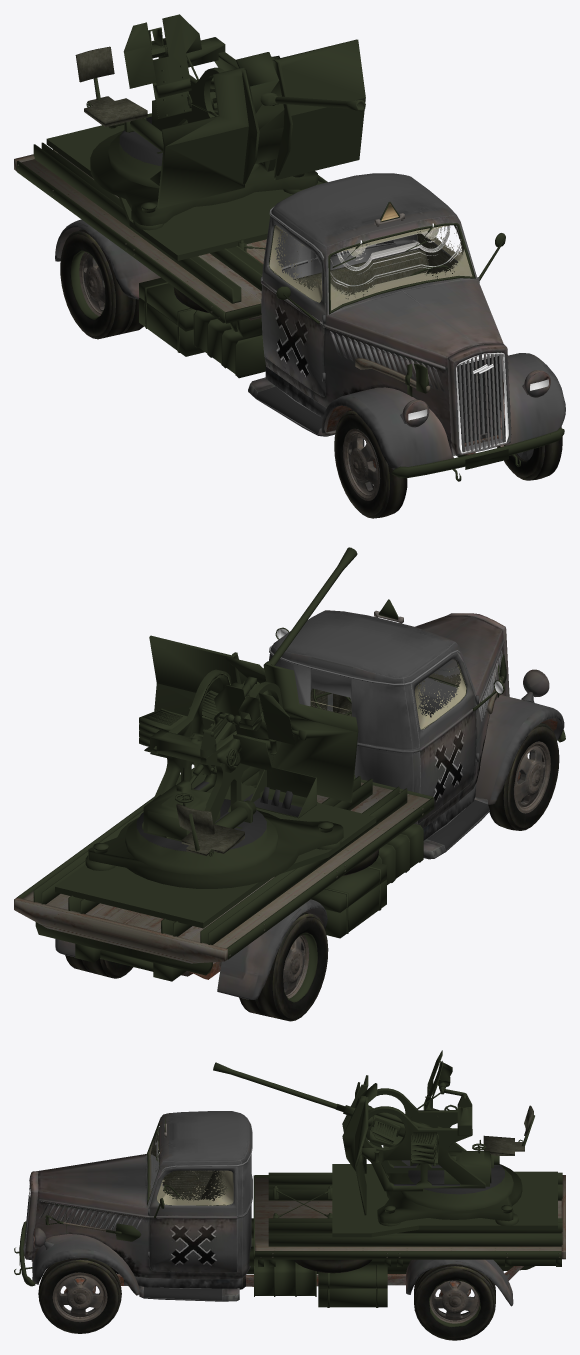
File: flak-CUrWaTS-.glb
3 views of the same model, one above another, from view 1: azimuth 30°, elevation 25°; view 2: azimuth 150°, elevation 25°; view 3: azimuth 270°, elevation 25° (orthographic). The views are drawn at different scales.
Visible parts, largest first — view 1: Object_5, Object_6, Object_16, Object_9, Object_17, Object_7, Object_15, Object_22, Object_8, Object_14; view 2: Object_5, Object_6, Object_17, Object_16, Object_7, Object_22, Object_9, Object_8; view 3: Object_5, Object_6, Object_16, Object_17, Object_22, Object_9, Object_7, Object_8, Object_13.
Part boxes in pixels (box(x1,y1,x2,y2)): Object_5: box(16, 14, 564, 481); Object_6: box(55, 173, 565, 469); Object_16: box(60, 230, 562, 518); Object_9: box(17, 46, 463, 317); Object_17: box(14, 149, 430, 392); Object_7: box(119, 116, 500, 443); Object_15: box(330, 225, 472, 310); Object_22: box(79, 252, 533, 500); Object_8: box(269, 225, 462, 302); Object_14: box(360, 223, 548, 453); Object_5: box(17, 547, 565, 1002); Object_6: box(55, 610, 564, 999); Object_17: box(14, 676, 503, 963); Object_16: box(65, 722, 559, 1021); Object_7: box(136, 781, 489, 851); Object_22: box(283, 741, 550, 998); Object_9: box(176, 663, 469, 956); Object_8: box(311, 665, 466, 729); Object_5: box(14, 1050, 562, 1327); Object_6: box(23, 1111, 513, 1306); Object_16: box(38, 1258, 495, 1340); Object_17: box(63, 1175, 565, 1259); Object_22: box(52, 1272, 480, 1323); Object_9: box(151, 1105, 560, 1272); Object_7: box(143, 1160, 504, 1300); Object_8: box(157, 1141, 233, 1205); Object_13: box(47, 1266, 523, 1296).
Size of the model in its own units: 2.36 by 3.21 by 6.63.
16 materials, 9 textured.
